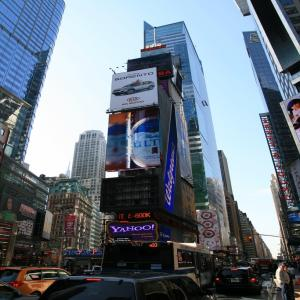Vehicle-registration-plate: (231, 281, 240, 284)
